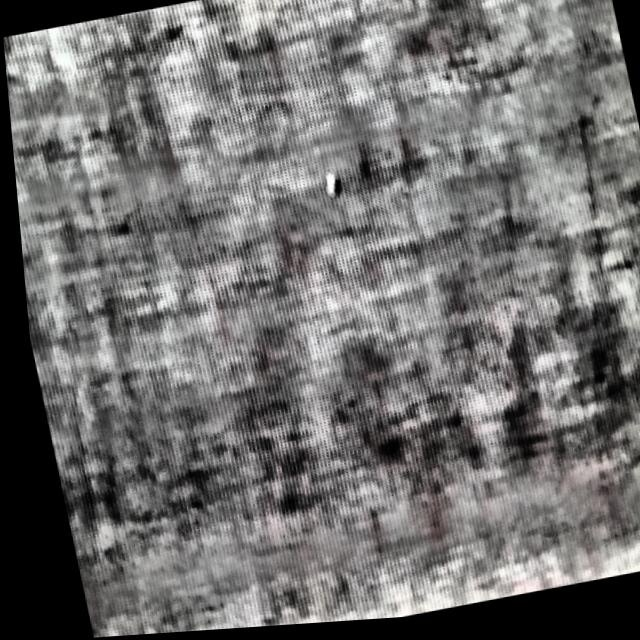Hole: (316, 159, 358, 216), (310, 158, 351, 216)
